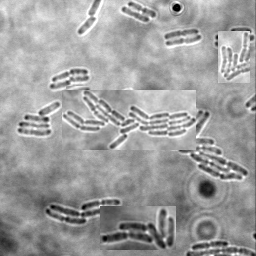Dividing: (52, 67, 89, 81), (128, 1, 157, 18), (166, 34, 202, 47), (164, 28, 200, 39), (192, 239, 229, 249)
Microcolony: (62, 90, 196, 150), (158, 109, 249, 180), (100, 206, 176, 250), (45, 199, 121, 224), (218, 31, 250, 83), (18, 101, 61, 136)
Rod: (121, 5, 150, 23), (78, 16, 99, 34), (66, 86, 91, 98), (50, 79, 72, 89), (69, 73, 90, 82)
